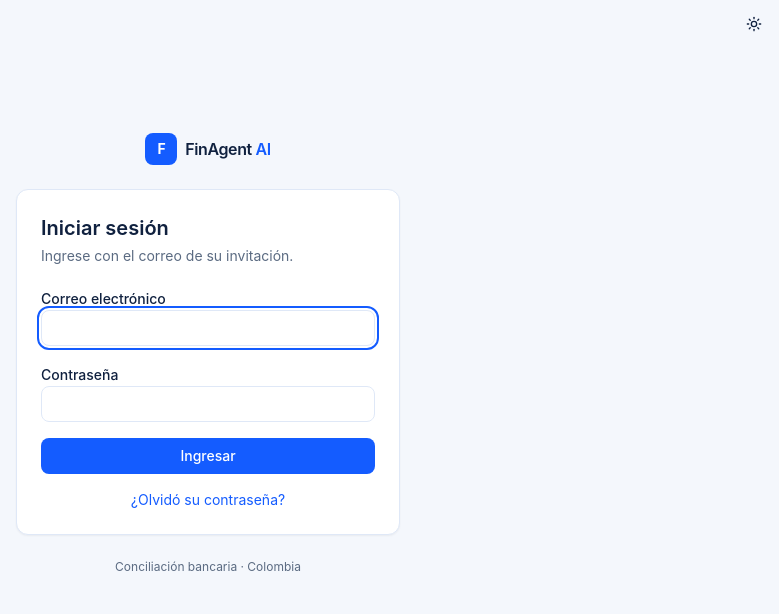
login › muestra el mensaje del servidor si las credenciales fallan
The image size is (779, 614).
In the field labelled "Correo electrónico": {"x": 208, "y": 328} [41,310,375,346], type "ana@demo.co"
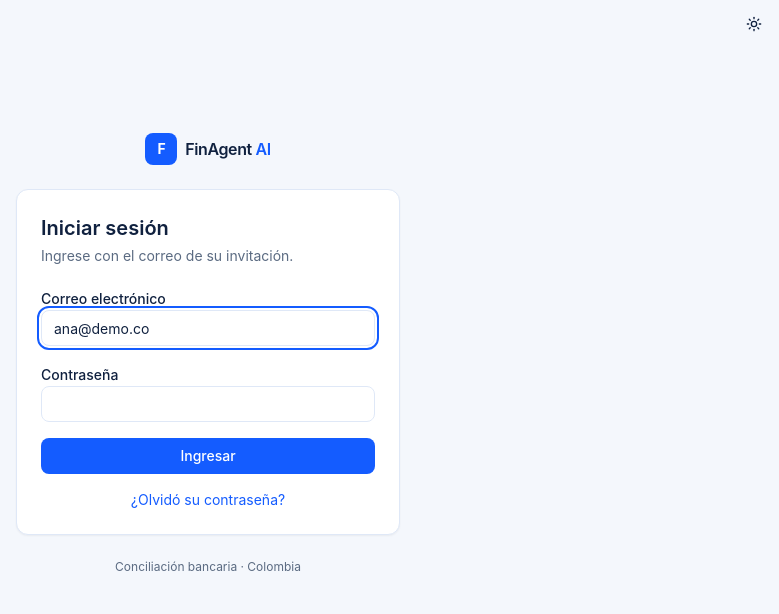
In the password field labelled "Contraseña": {"x": 208, "y": 404} [41,386,375,422], type "mala"
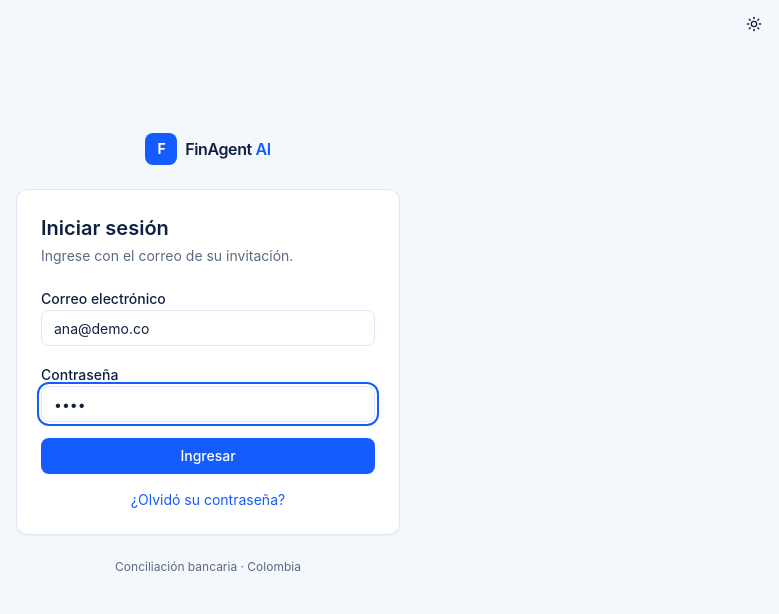
Click the button "Ingresar": {"x": 208, "y": 456} [41,438,375,474]
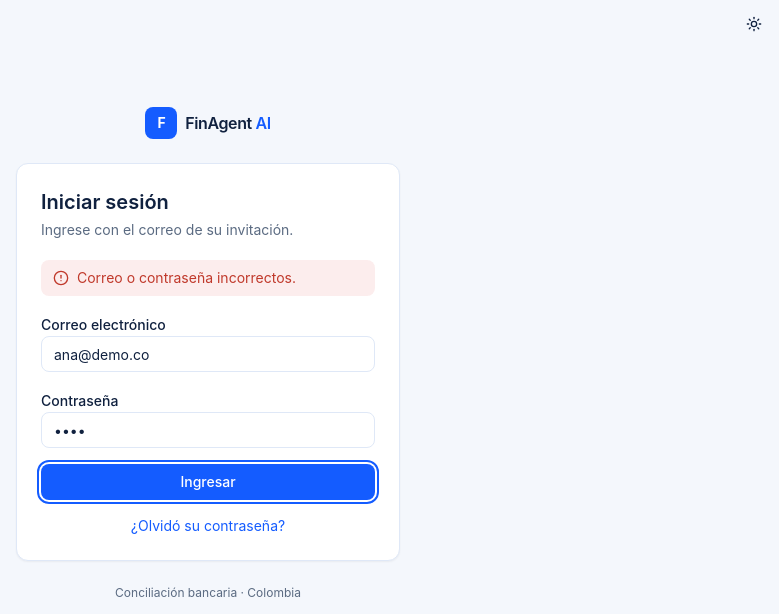
Check: the message reads "Correo o contraseña incorrectos.", box [77,269,296,286]
